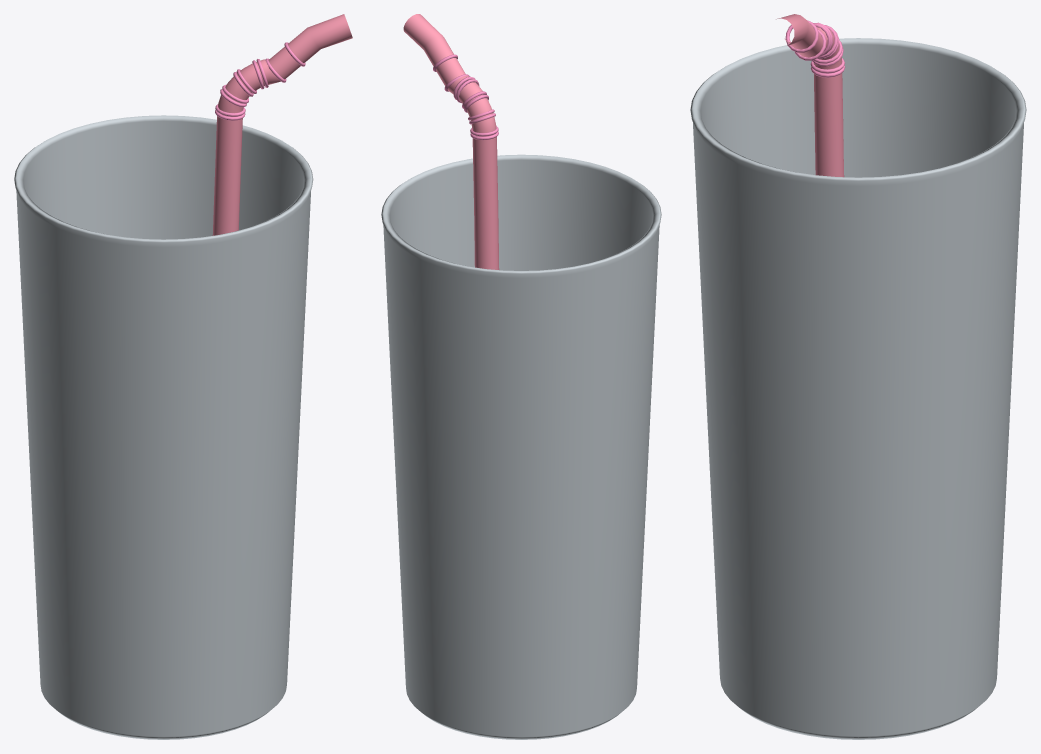
File: MilkGlass.glb
3 renders of one model, left to right at view 1: azimuth 30°, elevation 25°; view 2: azimuth 150°, elevation 25°; view 3: azimuth 270°, elevation 25°, orthographic. The views are drawn at different scales.
Parts seen in each view (by area): view 1: Glass, Straw, Stripes; view 2: Glass, Straw, Stripes; view 3: Glass, Straw, Stripes.
Part boxes in pixels (x1,y1,x2,y2): Glass: [14, 115, 313, 739]; Straw: [212, 14, 352, 235]; Stripes: [215, 42, 305, 120]; Glass: [381, 154, 661, 739]; Straw: [403, 14, 499, 269]; Stripes: [433, 54, 498, 140]; Glass: [690, 38, 1026, 739]; Straw: [776, 14, 844, 177]; Stripes: [785, 20, 845, 77].
Size of the model in its own units: 12.13 by 27.06 by 11.04.
